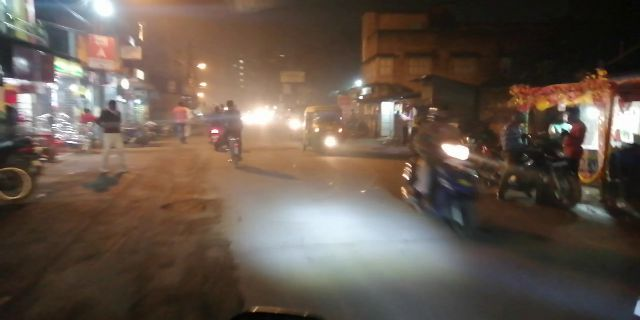Autorickshaw: (301, 101, 350, 161)
Cycle: (224, 96, 248, 168)
Motorbike: (411, 101, 489, 232)
